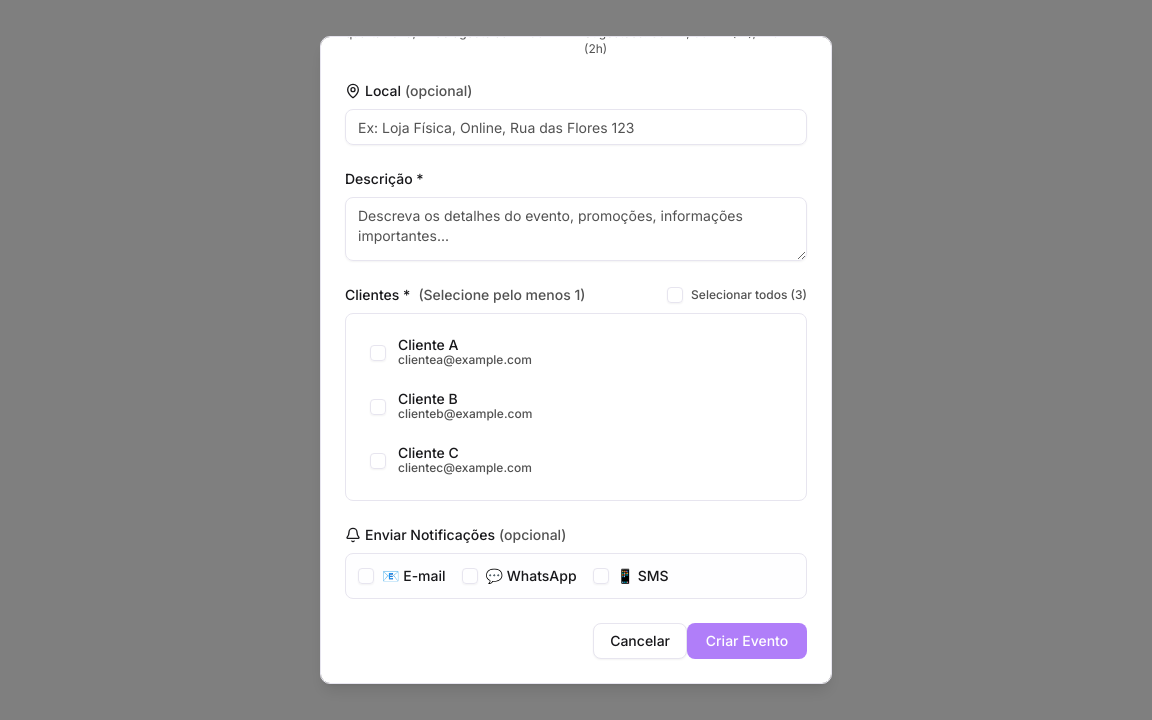
Scenario: EventFormDialog › should show notification info when channels selected
(page scrolled)
Click the checkbox named "e-mail" next to "📧 E-mail": [366, 576] box [358,568,374,584]
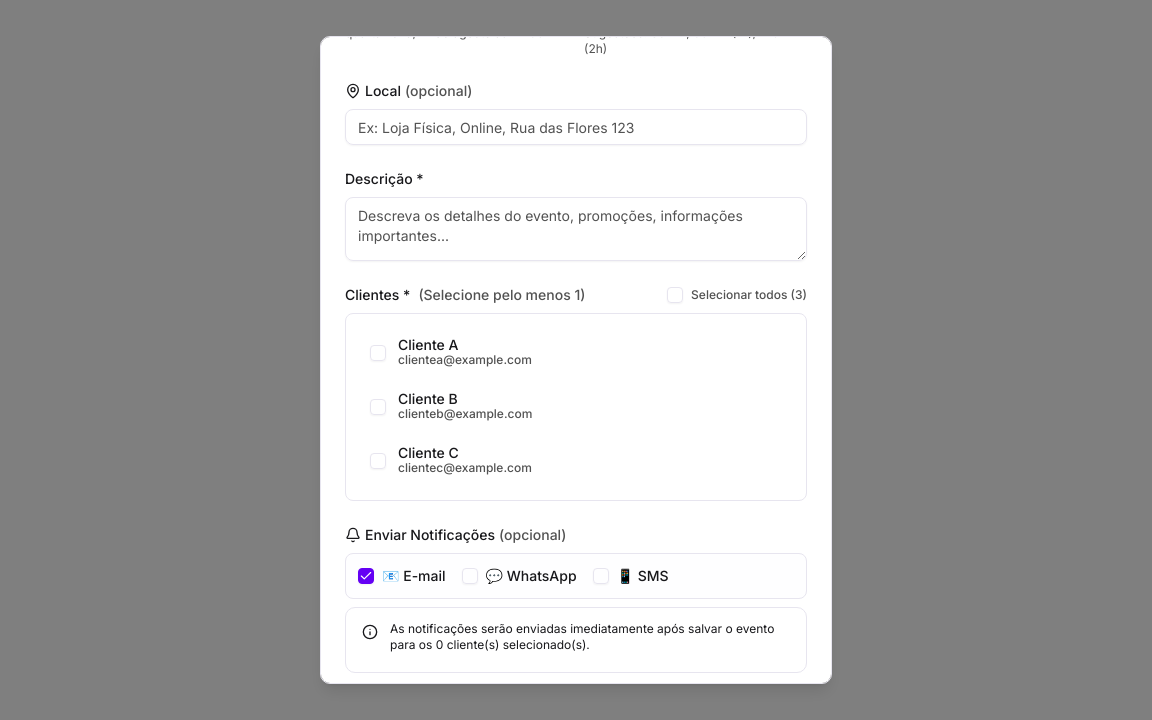
Check: the text "As notificações serão enviadas imediatamente" is shown, box [390,621,774,652]
